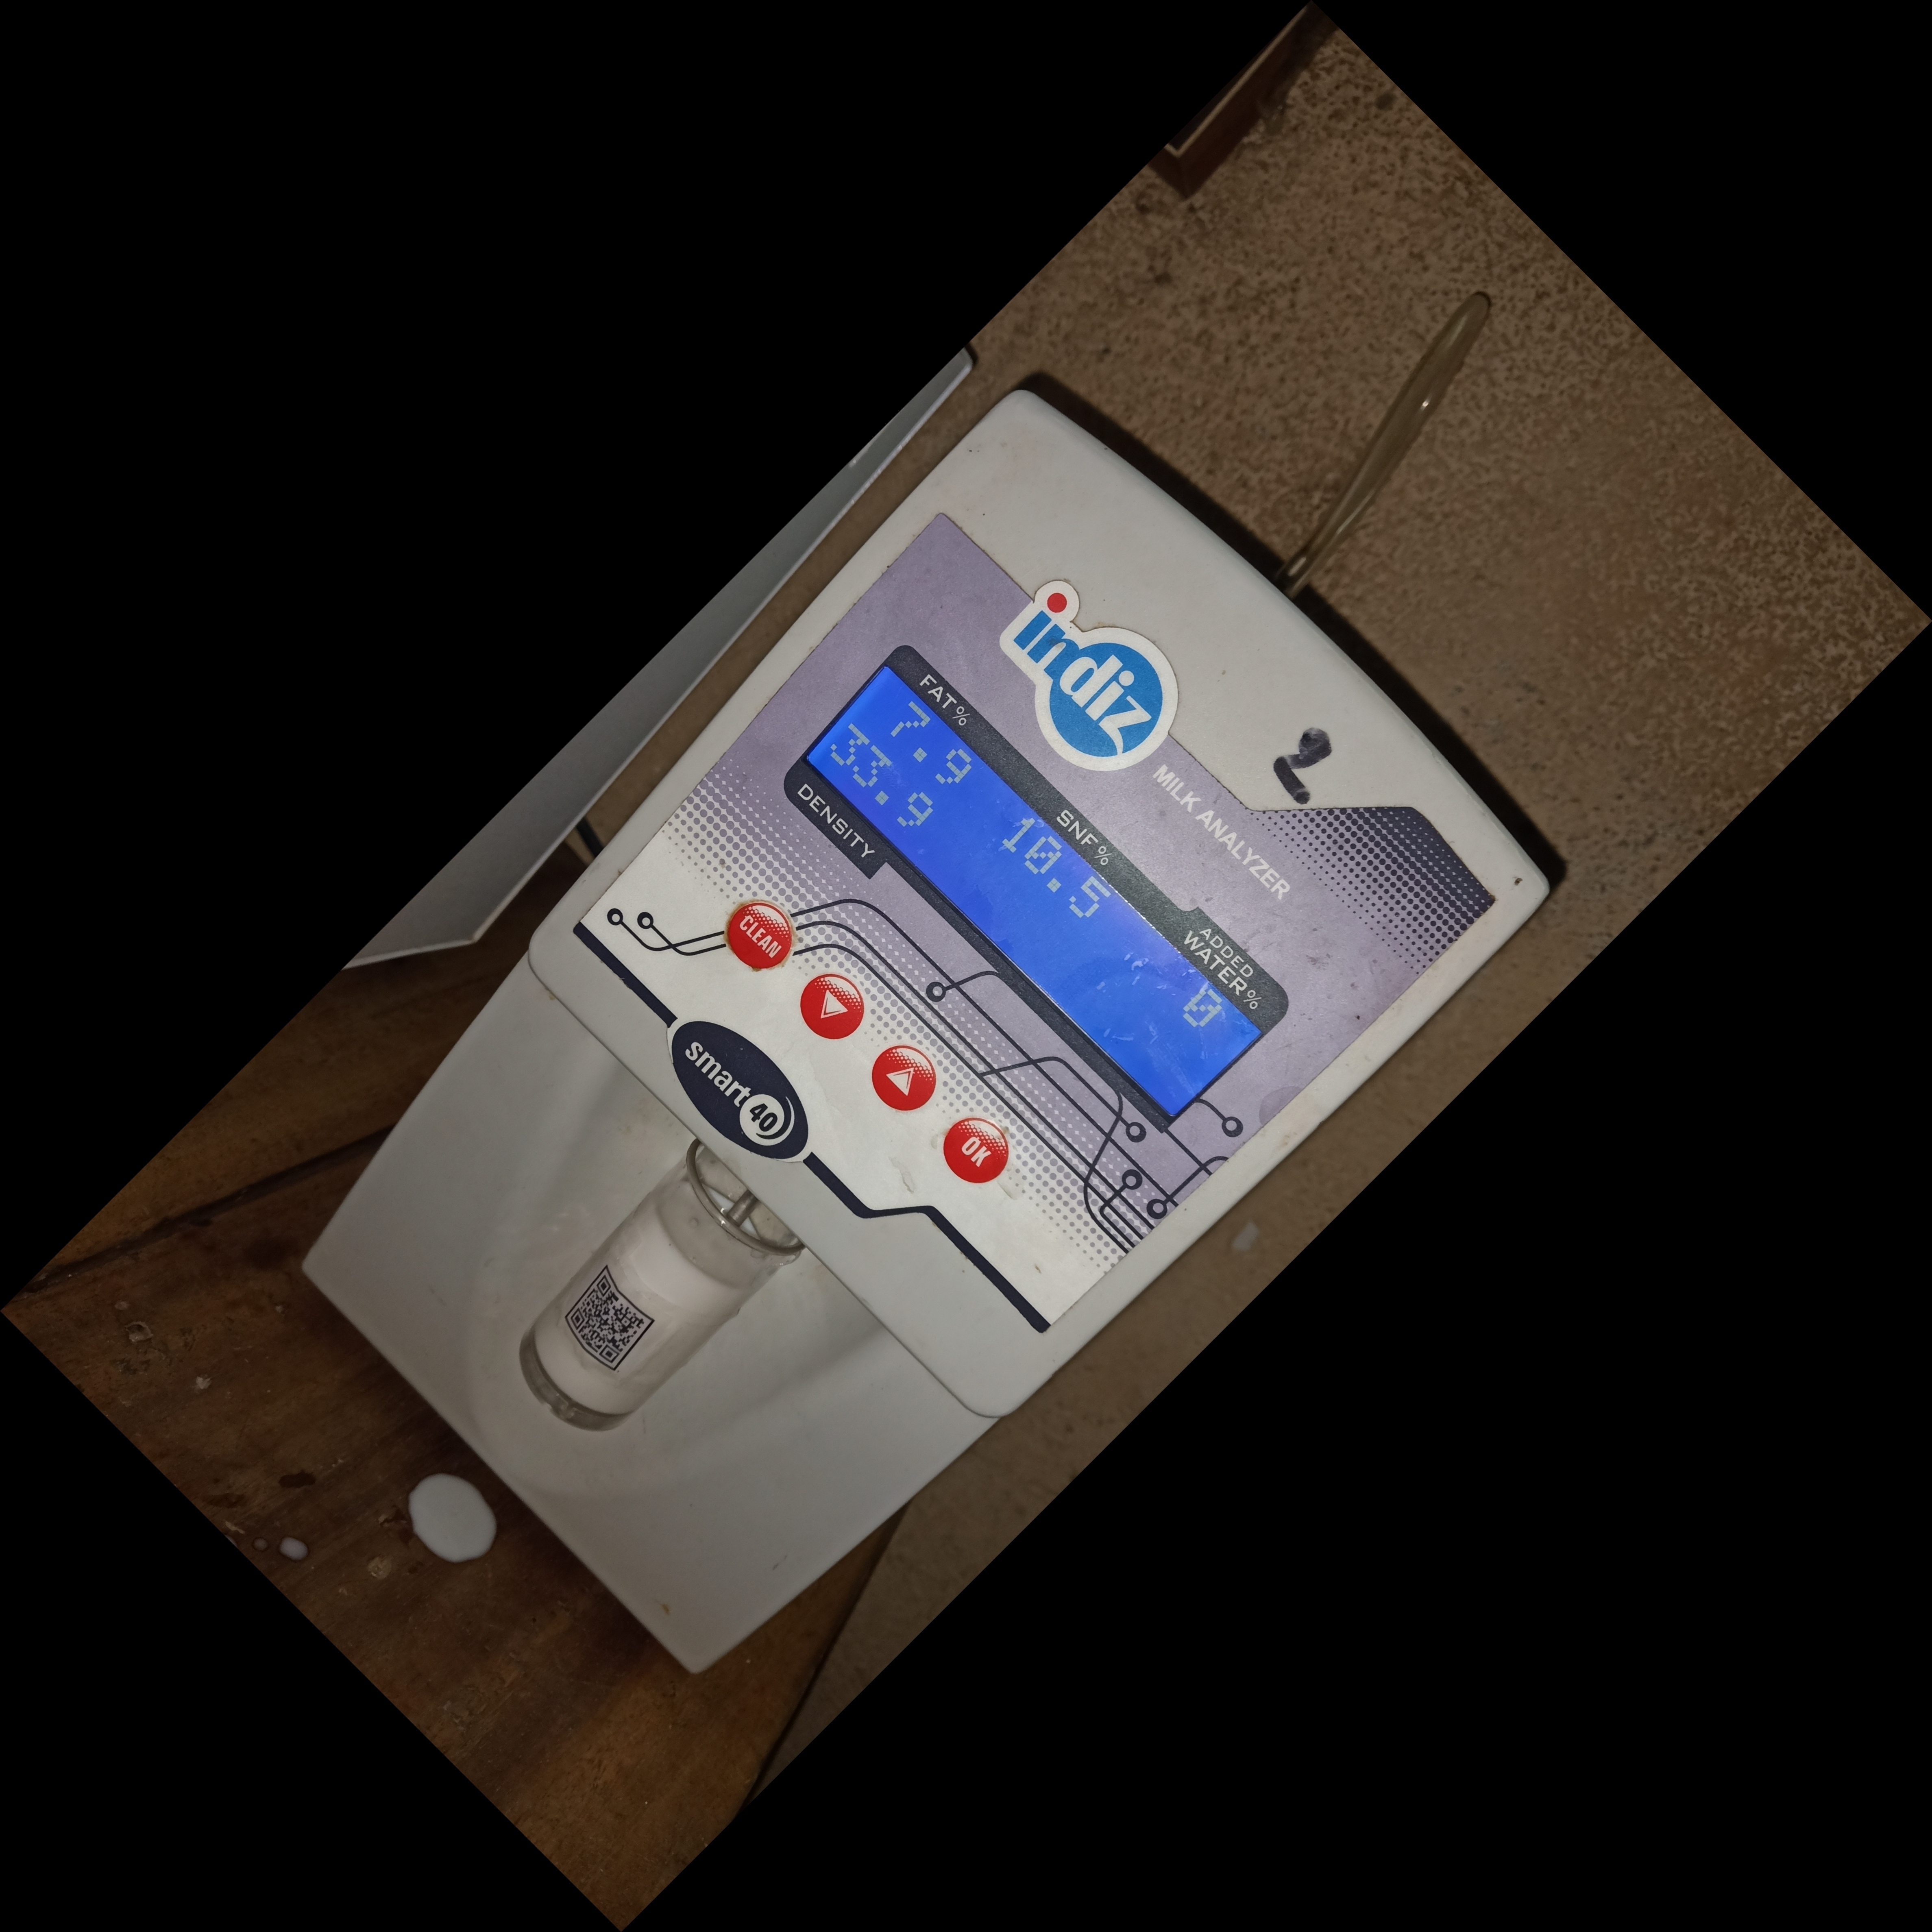lcd: (761, 619, 1290, 1145)
qr: (552, 1247, 667, 1391)
